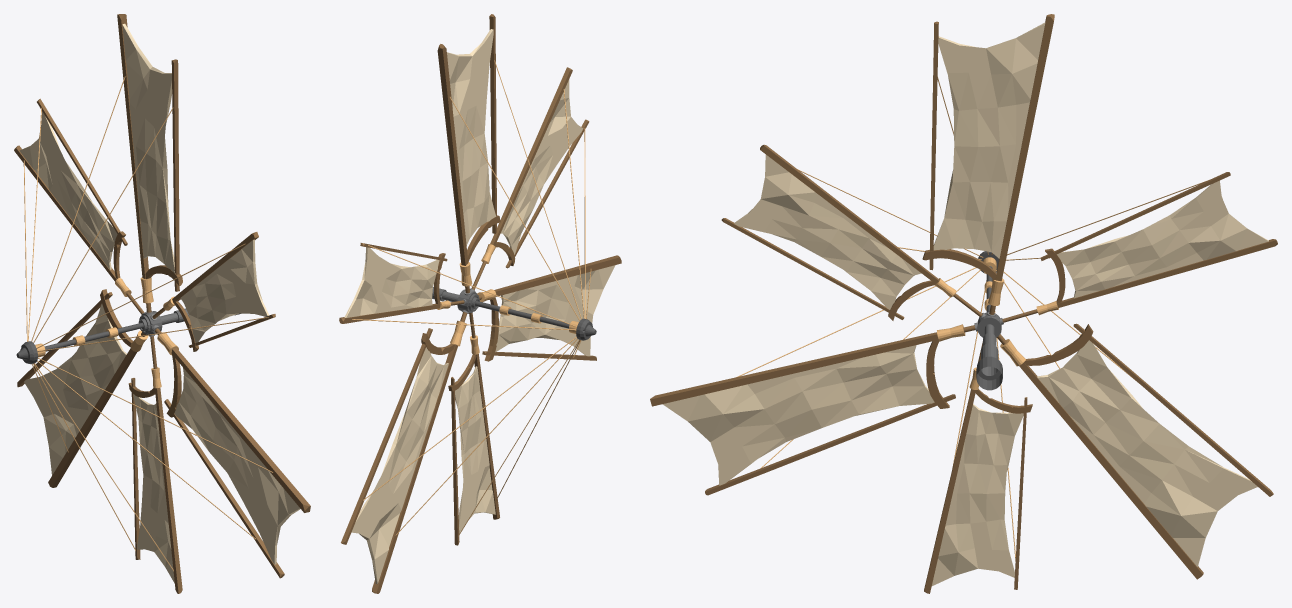
Rendered from SFV_Windmill_001.fbx.
The picture shows the model from 3 angles, left to right: view 1: azimuth 30°, elevation 25°; view 2: azimuth 150°, elevation 25°; view 3: azimuth 270°, elevation 25°; orthographic projection. The views are drawn at different scales.
Visible parts, largest first — view 1: SFV_Windmill_001; view 2: SFV_Windmill_001; view 3: SFV_Windmill_001.
Boxes of the visible parts, box(x1,y1,x2,y2) form: SFV_Windmill_001: box(14, 14, 310, 593); SFV_Windmill_001: box(339, 14, 621, 593); SFV_Windmill_001: box(650, 14, 1277, 593).
Bounding box in the file's own units: 2328 × 5113 × 5033.
